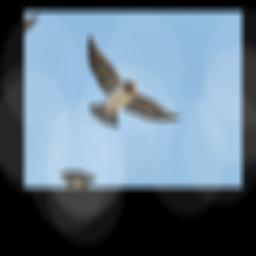Swallow: (58, 32, 200, 150)
